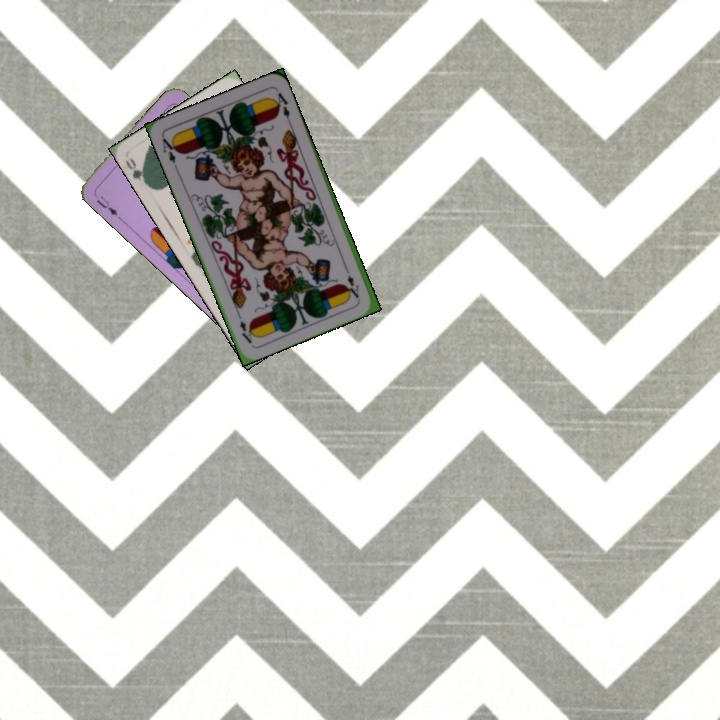EA: (158, 133, 181, 172), (340, 262, 362, 301)
EU: (92, 191, 123, 221)
GO: (121, 154, 152, 189)
